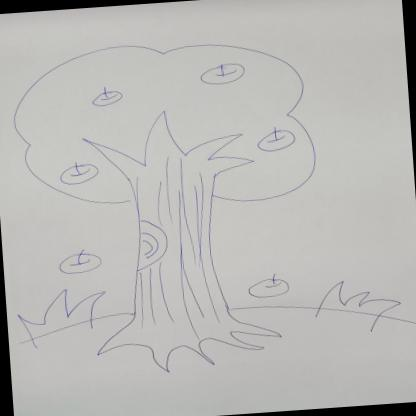apple: (198, 60, 247, 86), (60, 248, 102, 275), (246, 273, 290, 298), (254, 127, 297, 152), (58, 162, 101, 186), (91, 85, 125, 107)
branch_sharp: (79, 104, 256, 194)
crown_cloud: (9, 34, 318, 218)
root_upside: (92, 292, 284, 378)
trunk_bark: (128, 201, 226, 308)
